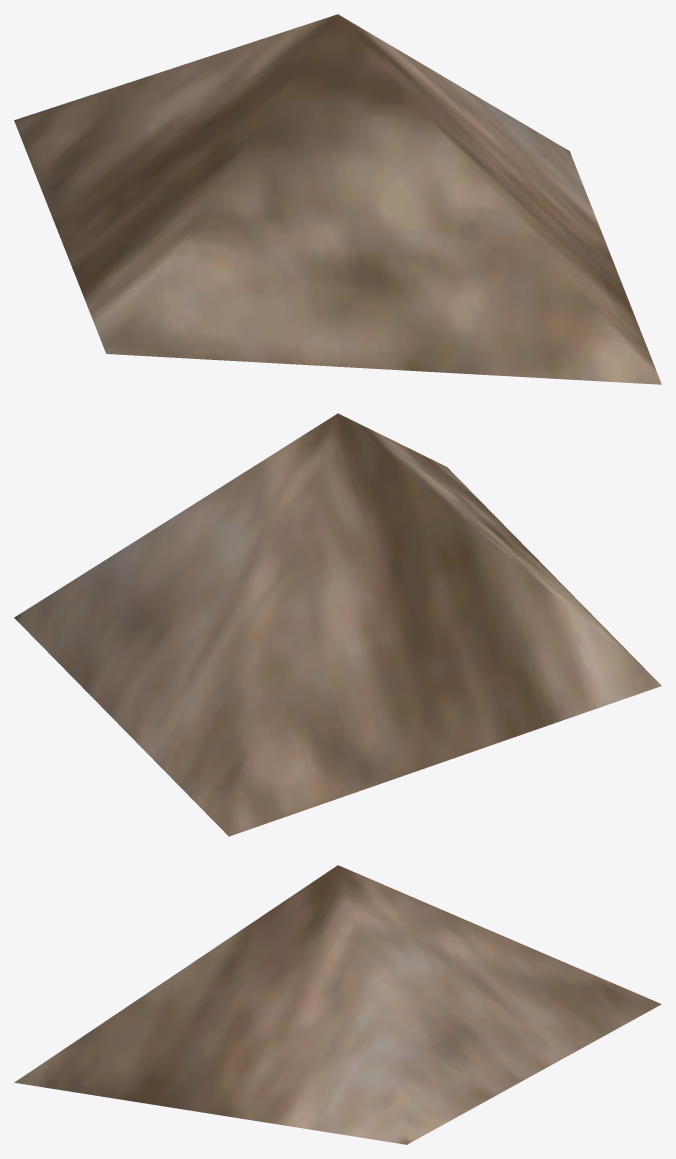
File: OVERHILL_A_01_PLANE05.fbx
3 views of the same model, one above another, from view 1: azimuth 30°, elevation 25°; view 2: azimuth 150°, elevation 25°; view 3: azimuth 270°, elevation 25° (orthographic). The views are drawn at different scales.
Visible parts, largest first — view 1: OVERHILL_A_01_PLANE05; view 2: OVERHILL_A_01_PLANE05; view 3: OVERHILL_A_01_PLANE05.
Part boxes in pixels (x1,y1,x2,y2): OVERHILL_A_01_PLANE05: [14, 14, 661, 384]; OVERHILL_A_01_PLANE05: [14, 413, 661, 836]; OVERHILL_A_01_PLANE05: [14, 865, 661, 1144].
Size of the model in its own units: 1134 by 465 by 1531.
Materials: 1 (1 with a texture image).
